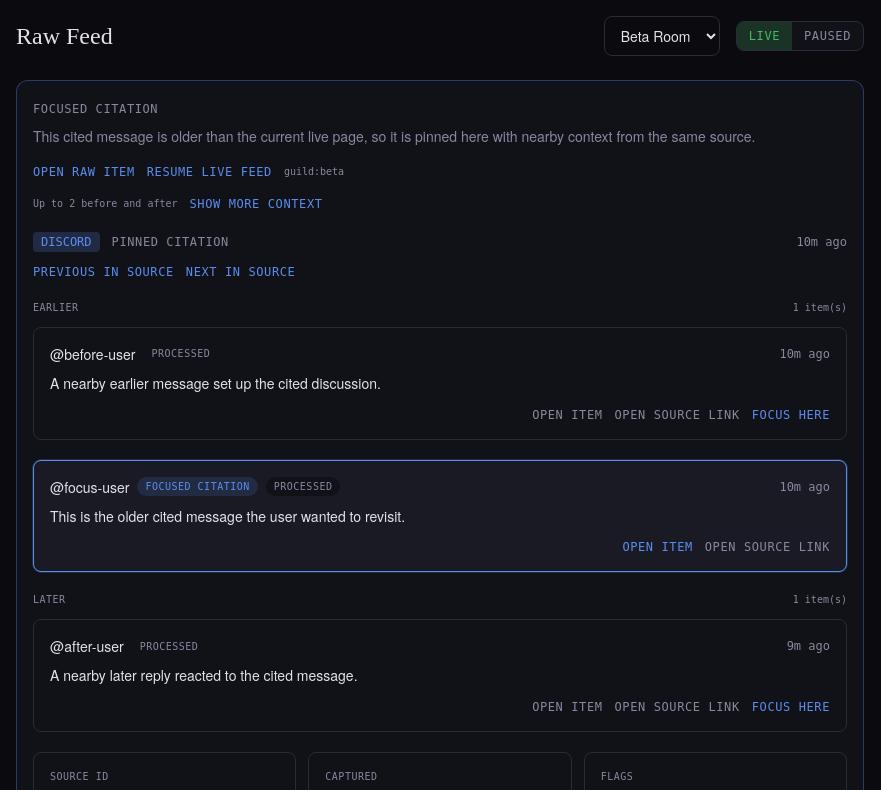
Test: Feed › keeps the widened context window when switching from the focused feed into the raw-item route
expect the text "This is the older cited message the user wanted to revisit." is shown: met, box [50,506,405,526]
Click the button "Show more context". click: (256, 204)
box: [190,196,322,212]
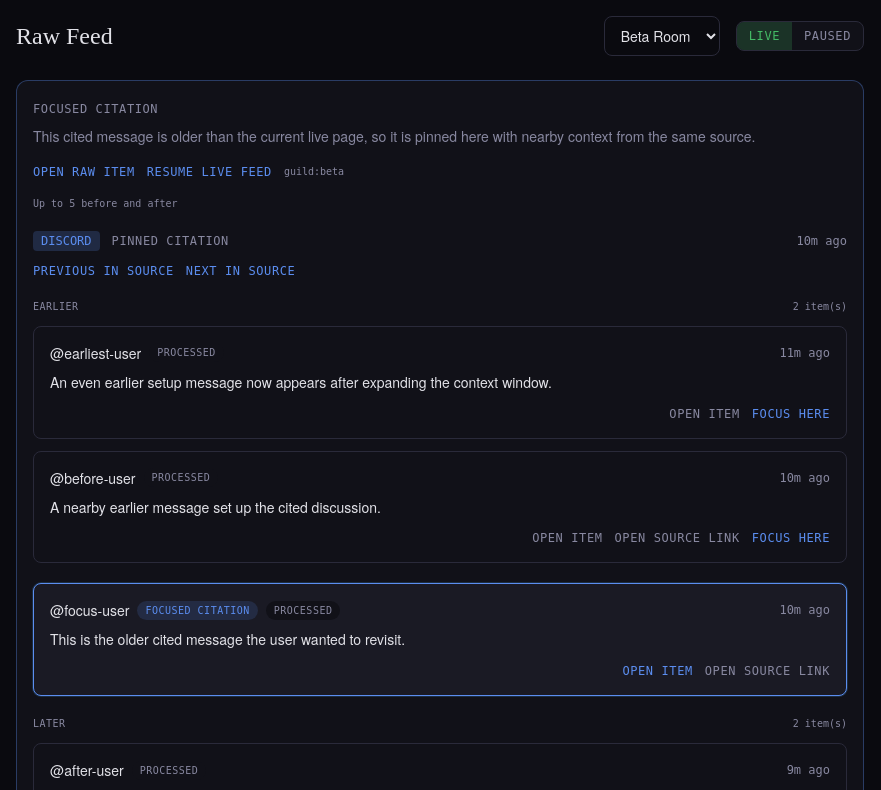
expect the text "An even earlier setup message now appears after expanding the context window." is shown: met, box [50,372,552,392]
Click the link "Open raw item". click: (84, 172)
box: [33,164,135,180]
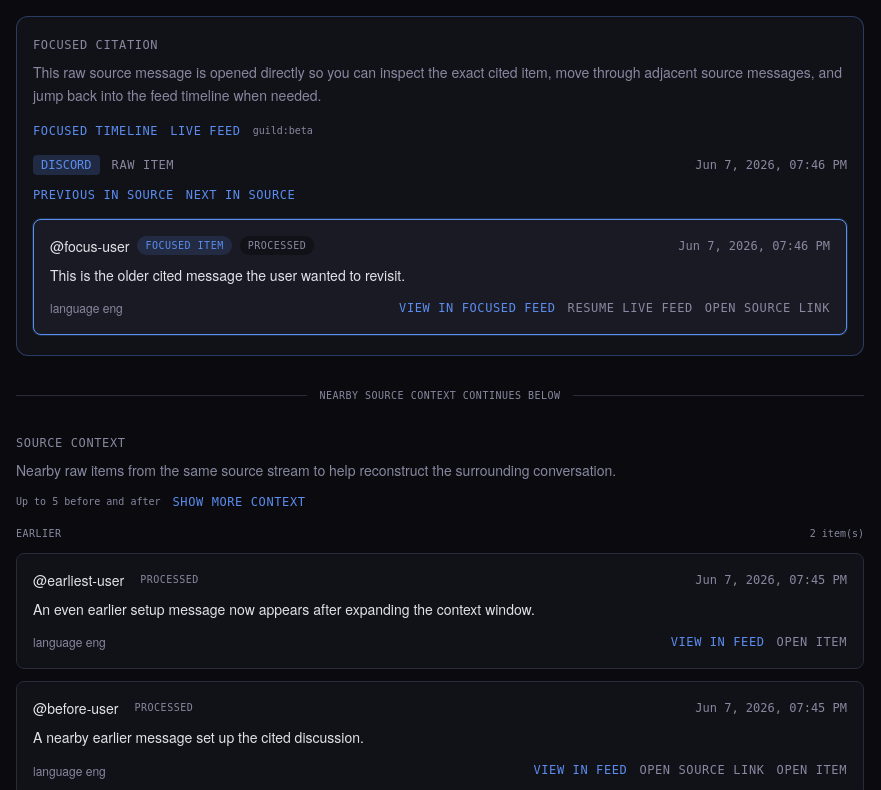
expect the heading "Source Context" is shown: met, box [16,436,126,450]
expect the text "Up to 5 before and after" is shown: met, box [16,494,160,509]
expect the button "Show more context" is shown: met, box [172,494,306,510]
